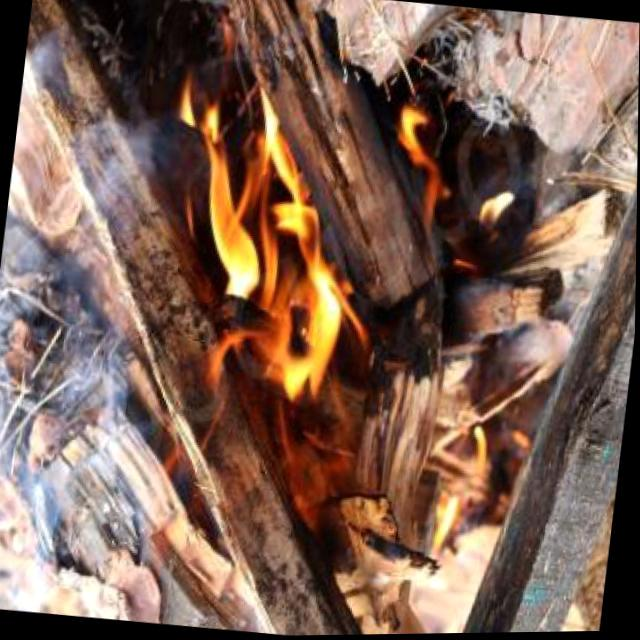fire: (132, 37, 510, 476)
